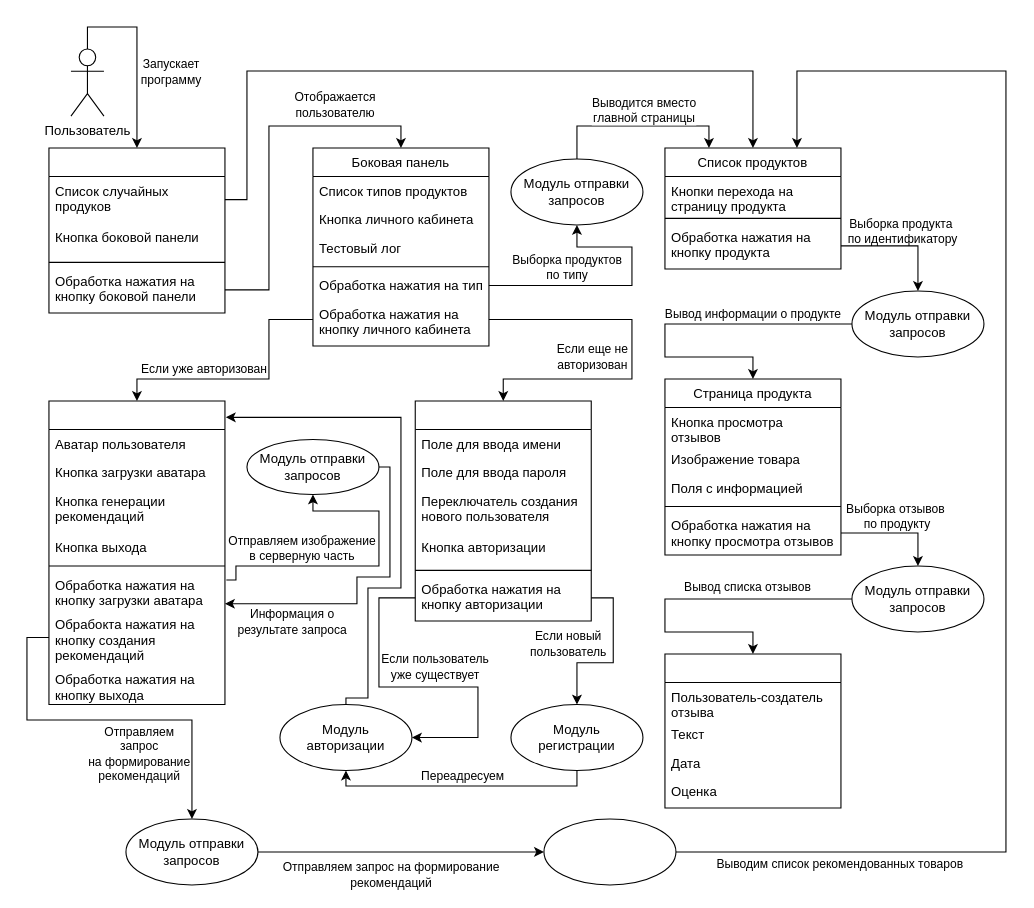
The diagram is 1034 pixels wide and 908 high, and some of its shapes have lost their labels. The shapes that lost their labels are listed below. From the top down, each one's box as (x1, y1, x2, y2) in pixels, then its label:
(48, 147, 225, 313): Стартовая страница
(414, 400, 591, 621): Авторизация
(48, 400, 225, 705): Личный кабинет
(664, 653, 841, 808): Страница отзывов
(543, 818, 676, 885): Модуль формирования рекомендаций
